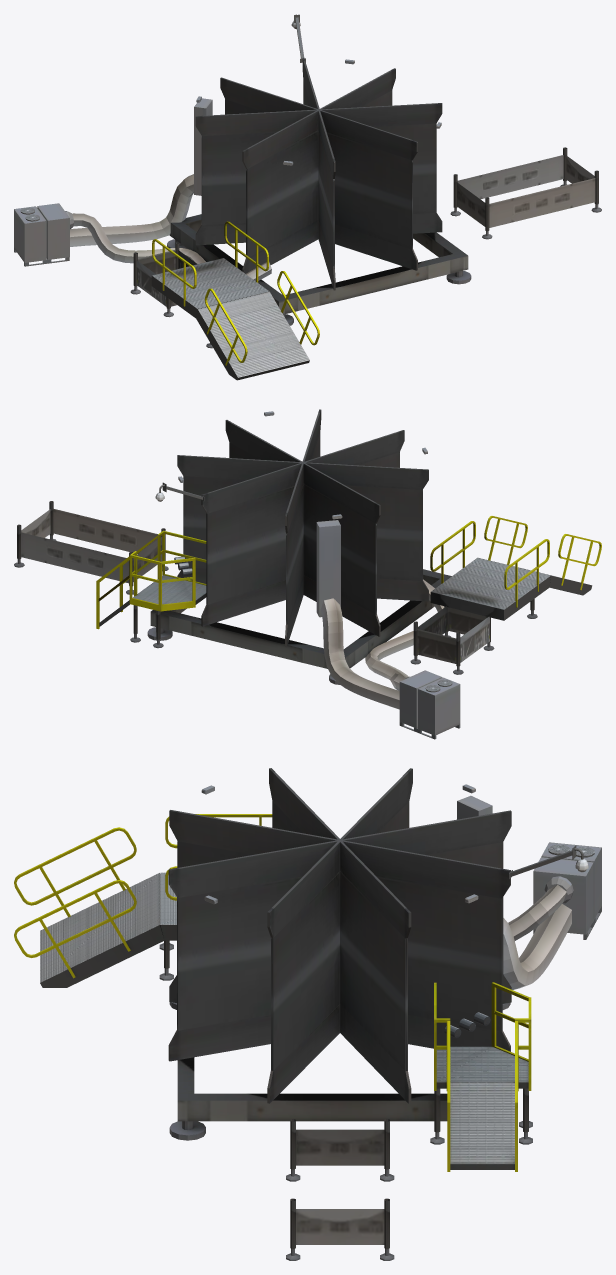
Rendered from habitat_part2.obj.
3 renders of one model, top to bottom at view 1: azimuth 30°, elevation 25°; view 2: azimuth 150°, elevation 25°; view 3: azimuth 270°, elevation 25°, orthographic. The views are drawn at different scales.
Parts seen in each view (by area): view 1: HDU_lowRez_part2; view 2: HDU_lowRez_part2; view 3: HDU_lowRez_part2.
Boxes of the visible parts, <box> form: HDU_lowRez_part2: <box>14,14,601,380</box>; HDU_lowRez_part2: <box>14,409,601,739</box>; HDU_lowRez_part2: <box>14,768,601,1260</box>.
Size of the model in its own units: 656 by 226 by 459.
Materials: 1 (1 with a texture image).
